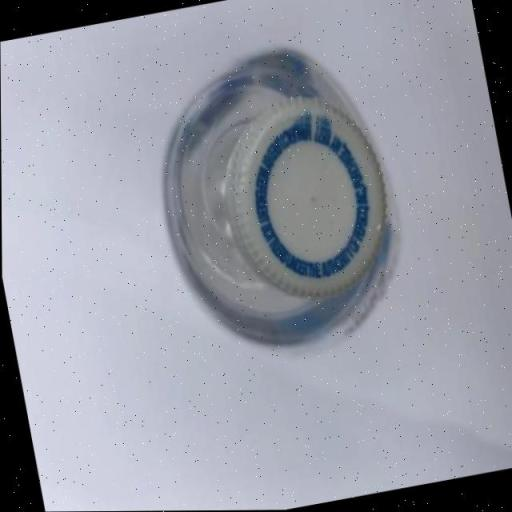plastic: (134, 33, 436, 378)
